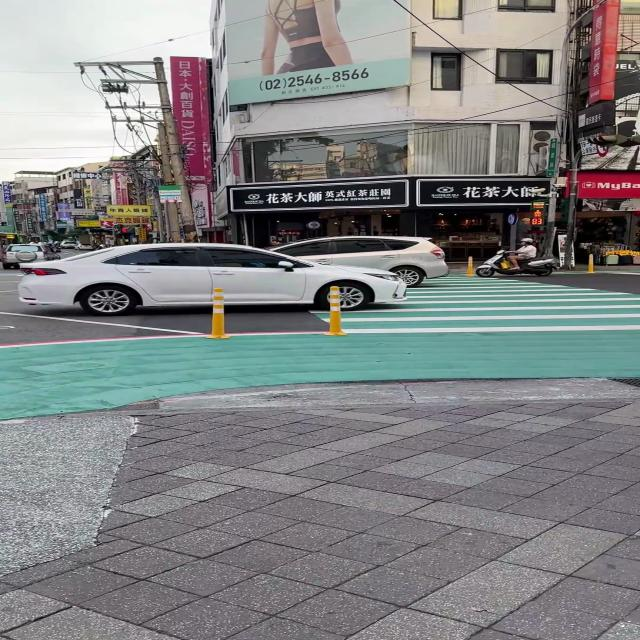Flexible_delineator_post: (324, 285, 346, 336), (207, 288, 229, 338), (465, 256, 474, 276), (587, 254, 593, 273)
car: (18, 242, 406, 315), (267, 235, 446, 284), (476, 250, 556, 278), (2, 244, 57, 269)
crosswalk: (342, 275, 640, 334)
